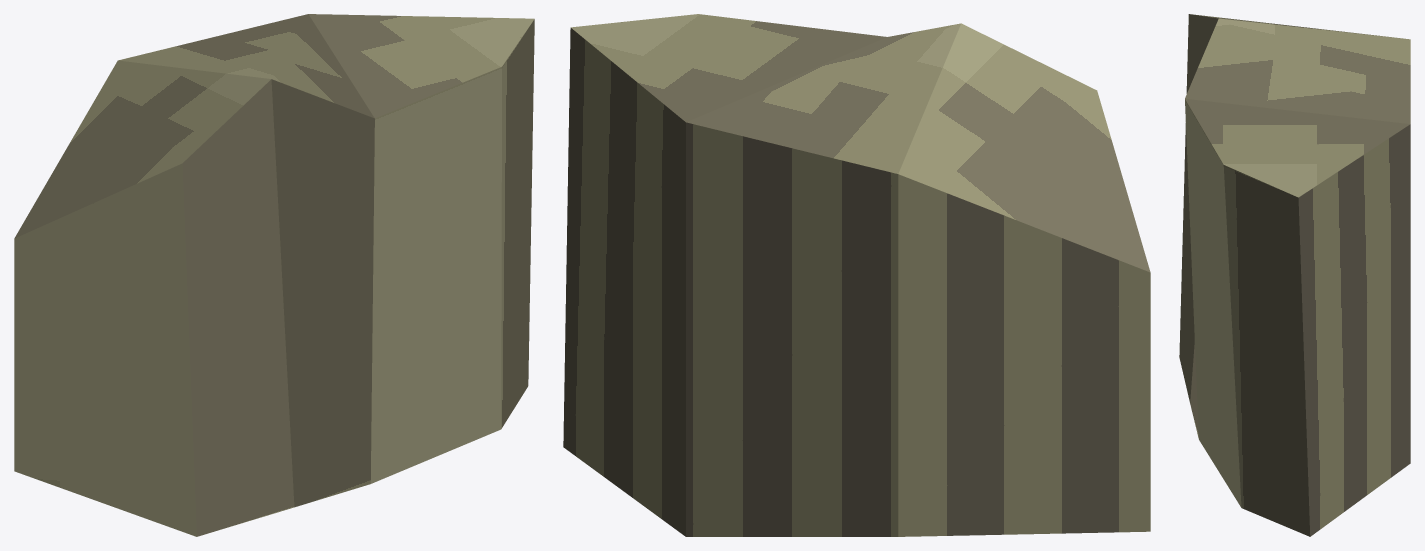
The model's file is Rubble 1.gltf.
3 renders of one model, left to right at view 1: azimuth 30°, elevation 25°; view 2: azimuth 150°, elevation 25°; view 3: azimuth 270°, elevation 25°, orthographic. The views are drawn at different scales.
Visible parts, largest first — view 1: cylinder; view 2: cylinder; view 3: cylinder.
Boxes of the visible parts, left/top/right/bottom form: cylinder: left=14, top=14, right=534, bottom=536; cylinder: left=563, top=14, right=1150, bottom=536; cylinder: left=1179, top=14, right=1410, bottom=536.
Size of the model in its own units: 0.7321 by 0.5625 by 0.3086.
Materials: 1 (1 with a texture image).
